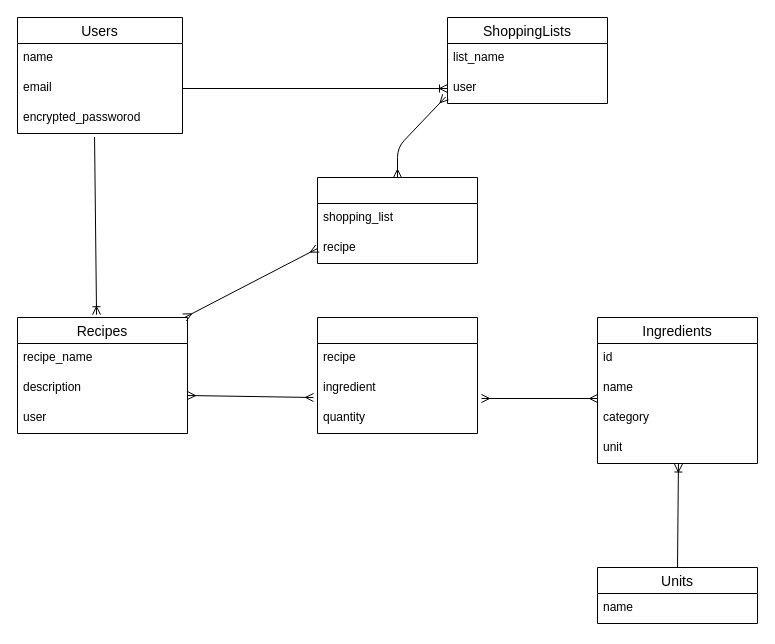
Some shapes in this 775 by 644 pixel diagram are drawn without their labels. Here are the shapes that lost their labels. From the top down, the box of each, then its label:
(316, 176, 478, 264): ShoppingListRecipes
(316, 316, 478, 434): RecipeIngredients
